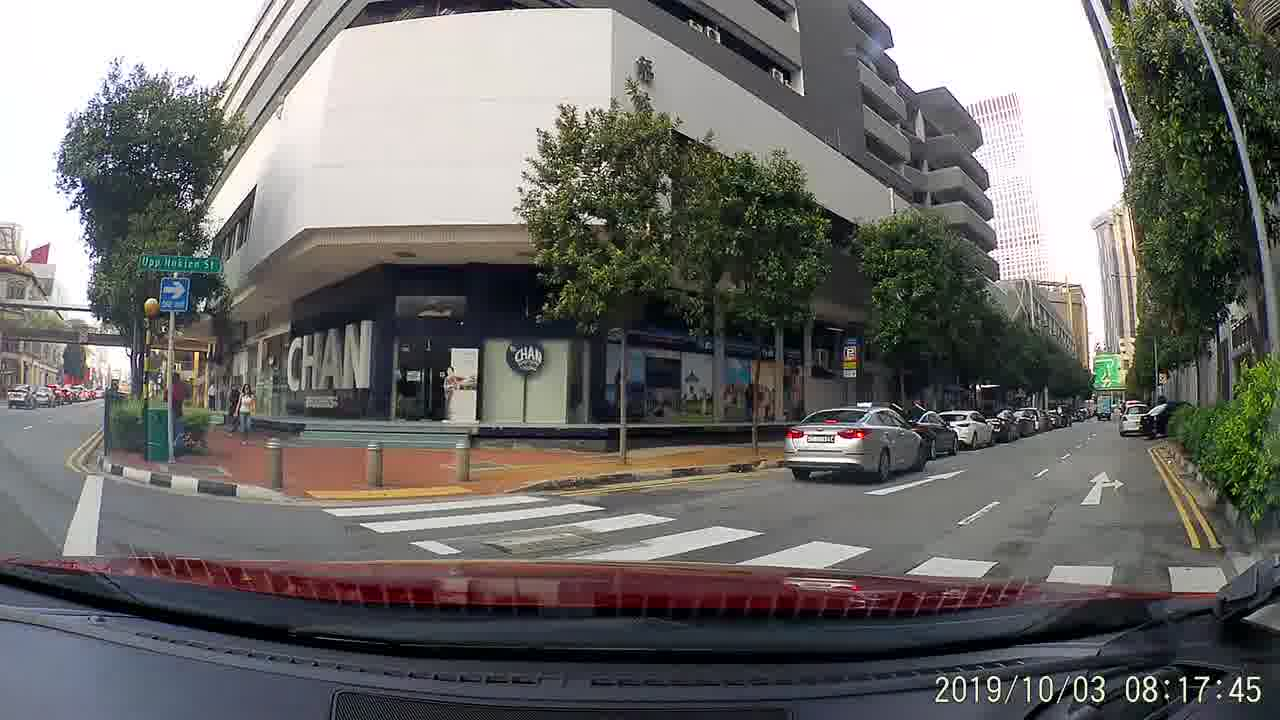car: (786, 401, 927, 479), (898, 407, 958, 458), (1140, 399, 1200, 441), (939, 410, 995, 448), (987, 411, 1023, 445), (1119, 405, 1152, 440), (6, 385, 37, 410), (1019, 406, 1048, 430), (29, 383, 51, 404), (55, 386, 75, 405)
